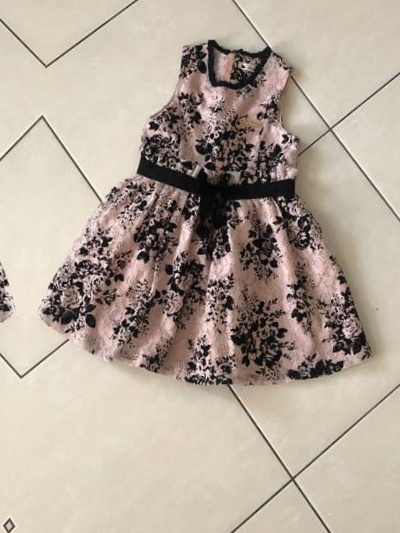Dress: (48, 25, 400, 418), (0, 0, 21, 387)
